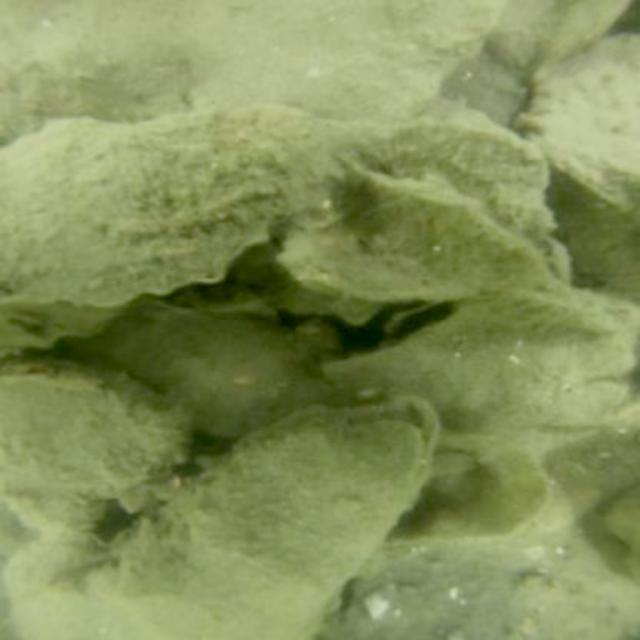Oyster-Closed: (89, 401, 440, 626), (2, 108, 352, 312), (314, 286, 638, 438), (279, 151, 557, 307), (0, 526, 322, 638), (3, 357, 188, 537), (92, 309, 312, 436), (332, 106, 547, 233), (379, 432, 555, 543), (510, 34, 638, 171)
Oyster-Open: (379, 295, 470, 344)
